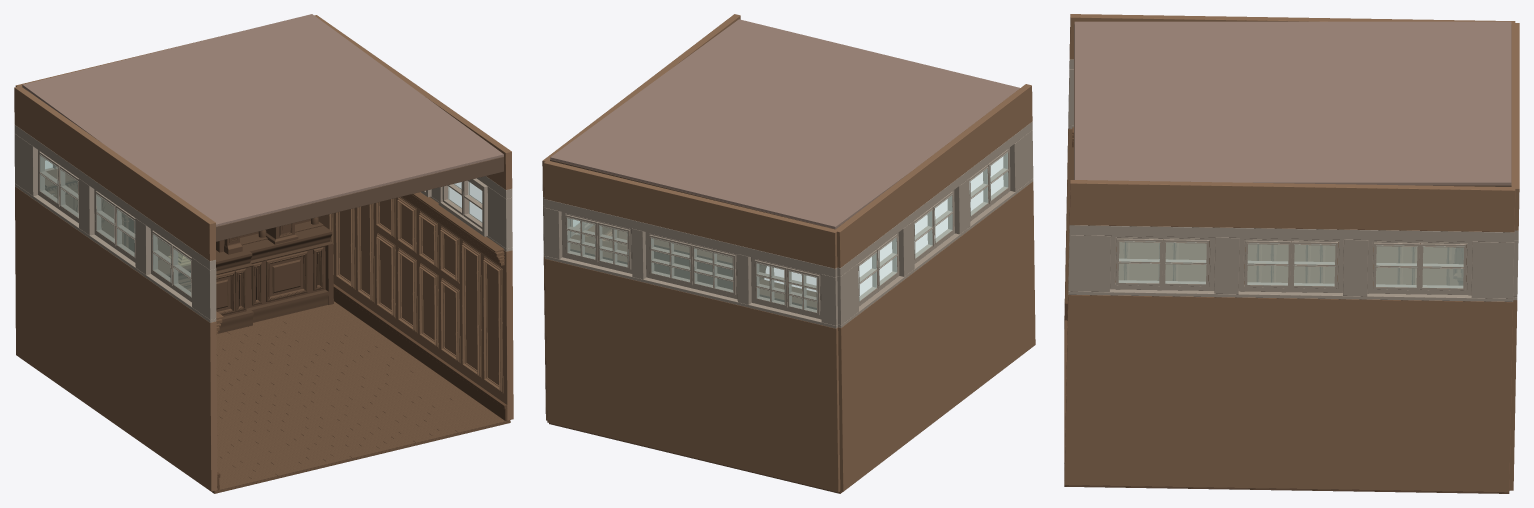
The model's file is sanctuary-architecture.glb.
3 renders of one model, left to right at view 1: azimuth 30°, elevation 25°; view 2: azimuth 150°, elevation 25°; view 3: azimuth 270°, elevation 25°, orthographic. The views are drawn at different scales.
Visible parts, largest first — view 1: ROG_V2_Ceiling_BackPlane_CLEAN, ROG_V2_Wall_West_Lower, ROG_V2_Floor_Planks_AUTH, ROG_V2_Wall_East_Lower, ROG_V2_Wall_West_UpperHeader, ROG_V2_CeilingPerimeter_CLEAN, ROG_V2_Baseboard_U_Body_AUTH, ROG_V2_Wall_West_ClerestoryHeadBand_AUTH, ROG_V2_Wall_East_UpperHeader, BASE_R_cabinet, ROG_V2_EastPanel_P01_TALL_AUTH, ROG_V2_Wall_West_ClerestorySillBand_AUTH (+22 smaller); view 2: ROG_V2_Ceiling_BackPlane_CLEAN, ROG_V2_Wall_North_Lower, ROG_V2_Wall_West_Lower, ROG_V2_Wall_North_UpperHeader, ROG_V2_Wall_West_UpperHeader, ROG_V2_Wall_North_ClerestoryHeadBand_AUTH, ROG_V2_Wall_West_ClerestoryHeadBand_AUTH, ROG_V2_Wall_North_ClerestorySillBand_AUTH, ROG_V2_Wall_West_ClerestorySillBand_AUTH, ROG_V2_Wall_East_UpperHeader, ROG_V2_Wall_West_ClerestoryPier_0_AUTH, ROG_V2_Wall_West_ClerestoryPier_3_AUTH (+14 smaller); view 3: ROG_V2_Wall_East_Lower, ROG_V2_Ceiling_BackPlane_CLEAN, ROG_V2_Wall_East_UpperHeader, ROG_V2_Wall_West_Lower, ROG_V2_Wall_East_ClerestoryHeadBand_AUTH, ROG_V2_Wall_East_ClerestorySillBand_AUTH, ROG_V2_Wall_East_ClerestoryPier_3_AUTH, ROG_V2_Wall_East_ClerestoryPier_0_AUTH, ROG_V2_Wall_West_UpperHeader, ROG_V2_Wall_North_UpperHeader, ROG_V2_Wall_East_ClerestoryPier_1_AUTH, ROG_V2_Wall_East_ClerestoryPier_2_AUTH (+23 smaller).
Part boxes in pixels (bbox=[...]): ROG_V2_Ceiling_BackPlane_CLEAN: bbox=[22, 14, 503, 226]; ROG_V2_Wall_West_Lower: bbox=[15, 186, 217, 491]; ROG_V2_Floor_Planks_AUTH: bbox=[213, 301, 510, 491]; ROG_V2_Wall_East_Lower: bbox=[318, 196, 513, 420]; ROG_V2_Wall_West_UpperHeader: bbox=[14, 86, 215, 260]; ROG_V2_CeilingPerimeter_CLEAN: bbox=[22, 87, 503, 241]; ROG_V2_Baseboard_U_Body_AUTH: bbox=[217, 290, 507, 489]; ROG_V2_Wall_West_ClerestoryHeadBand_AUTH: bbox=[14, 125, 216, 269]; ROG_V2_Wall_East_UpperHeader: bbox=[314, 15, 512, 189]; BASE_R_cabinet: bbox=[246, 246, 325, 308]; ROG_V2_EastPanel_P01_TALL_AUTH: bbox=[483, 256, 503, 393]; ROG_V2_Wall_West_ClerestorySillBand_AUTH: bbox=[15, 183, 216, 322]; ROG_V2_Ceiling_BackPlane_CLEAN: bbox=[550, 19, 1019, 228]; ROG_V2_Wall_North_Lower: bbox=[545, 259, 840, 492]; ROG_V2_Wall_West_Lower: bbox=[838, 181, 1035, 491]; ROG_V2_Wall_North_UpperHeader: bbox=[543, 160, 837, 268]; ROG_V2_Wall_West_UpperHeader: bbox=[836, 84, 1032, 267]; ROG_V2_Wall_North_ClerestoryHeadBand_AUTH: bbox=[544, 199, 837, 277]; ROG_V2_Wall_West_ClerestoryHeadBand_AUTH: bbox=[837, 121, 1032, 276]; ROG_V2_Wall_North_ClerestorySillBand_AUTH: bbox=[545, 256, 837, 328]; ROG_V2_Wall_West_ClerestorySillBand_AUTH: bbox=[838, 178, 1033, 327]; ROG_V2_Wall_East_UpperHeader: bbox=[542, 14, 740, 196]; ROG_V2_Wall_West_ClerestoryPier_0_AUTH: bbox=[1010, 130, 1033, 191]; ROG_V2_Wall_West_ClerestoryPier_3_AUTH: bbox=[837, 263, 858, 324]; ROG_V2_Wall_East_Lower: bbox=[1064, 294, 1513, 492]; ROG_V2_Ceiling_BackPlane_CLEAN: bbox=[1074, 21, 1511, 185]; ROG_V2_Wall_East_UpperHeader: bbox=[1069, 180, 1515, 232]; ROG_V2_Wall_West_Lower: bbox=[1064, 129, 1446, 318]; ROG_V2_Wall_East_ClerestoryHeadBand_AUTH: bbox=[1069, 225, 1514, 242]; ROG_V2_Wall_East_ClerestorySillBand_AUTH: bbox=[1068, 289, 1513, 301]; ROG_V2_Wall_East_ClerestoryPier_3_AUTH: bbox=[1471, 241, 1514, 298]; ROG_V2_Wall_East_ClerestoryPier_0_AUTH: bbox=[1068, 235, 1110, 291]; ROG_V2_Wall_West_UpperHeader: bbox=[1069, 14, 1515, 59]; ROG_V2_Wall_North_UpperHeader: bbox=[1511, 23, 1519, 230]; ROG_V2_Wall_East_ClerestoryPier_1_AUTH: bbox=[1214, 237, 1239, 294]; ROG_V2_Wall_East_ClerestoryPier_2_AUTH: bbox=[1343, 239, 1368, 296].
Bounding box in the file's own units: 8.61 × 7.48 × 9.82.
